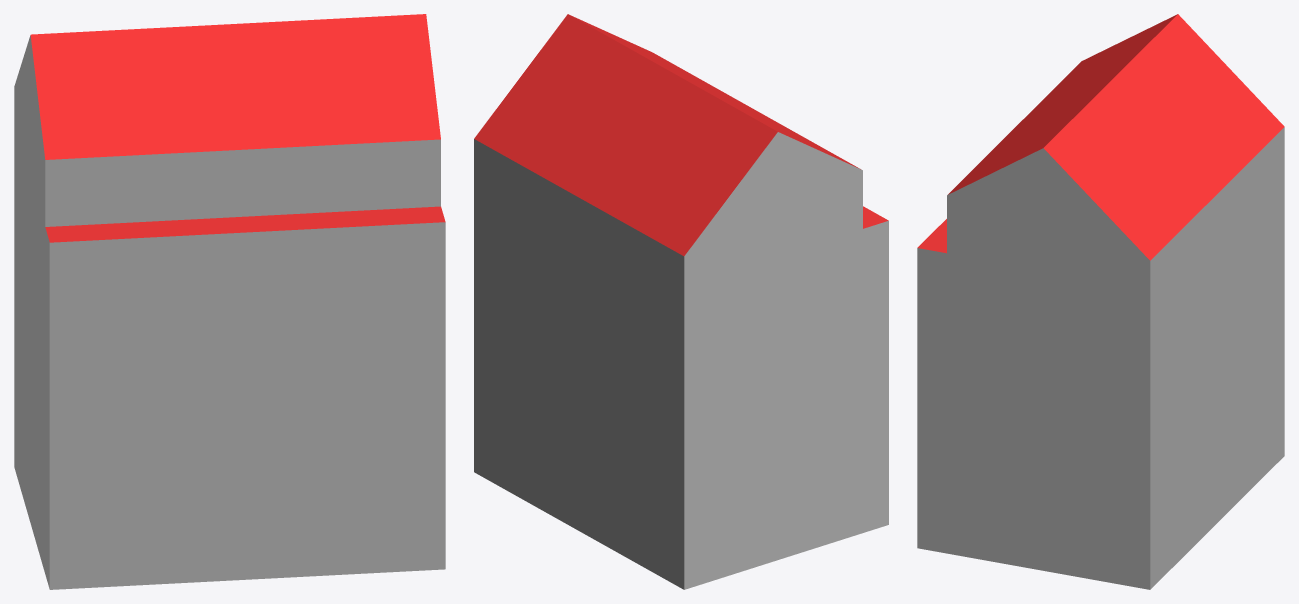
The model's file is DEBY_LOD2_4907015.dae.
3 renders of one model, left to right at view 1: azimuth 30°, elevation 25°; view 2: azimuth 150°, elevation 25°; view 3: azimuth 270°, elevation 25°, orthographic. The views are drawn at different scales.
Bounding box in the file's own units: 18.29 × 16.15 × 20.5.
